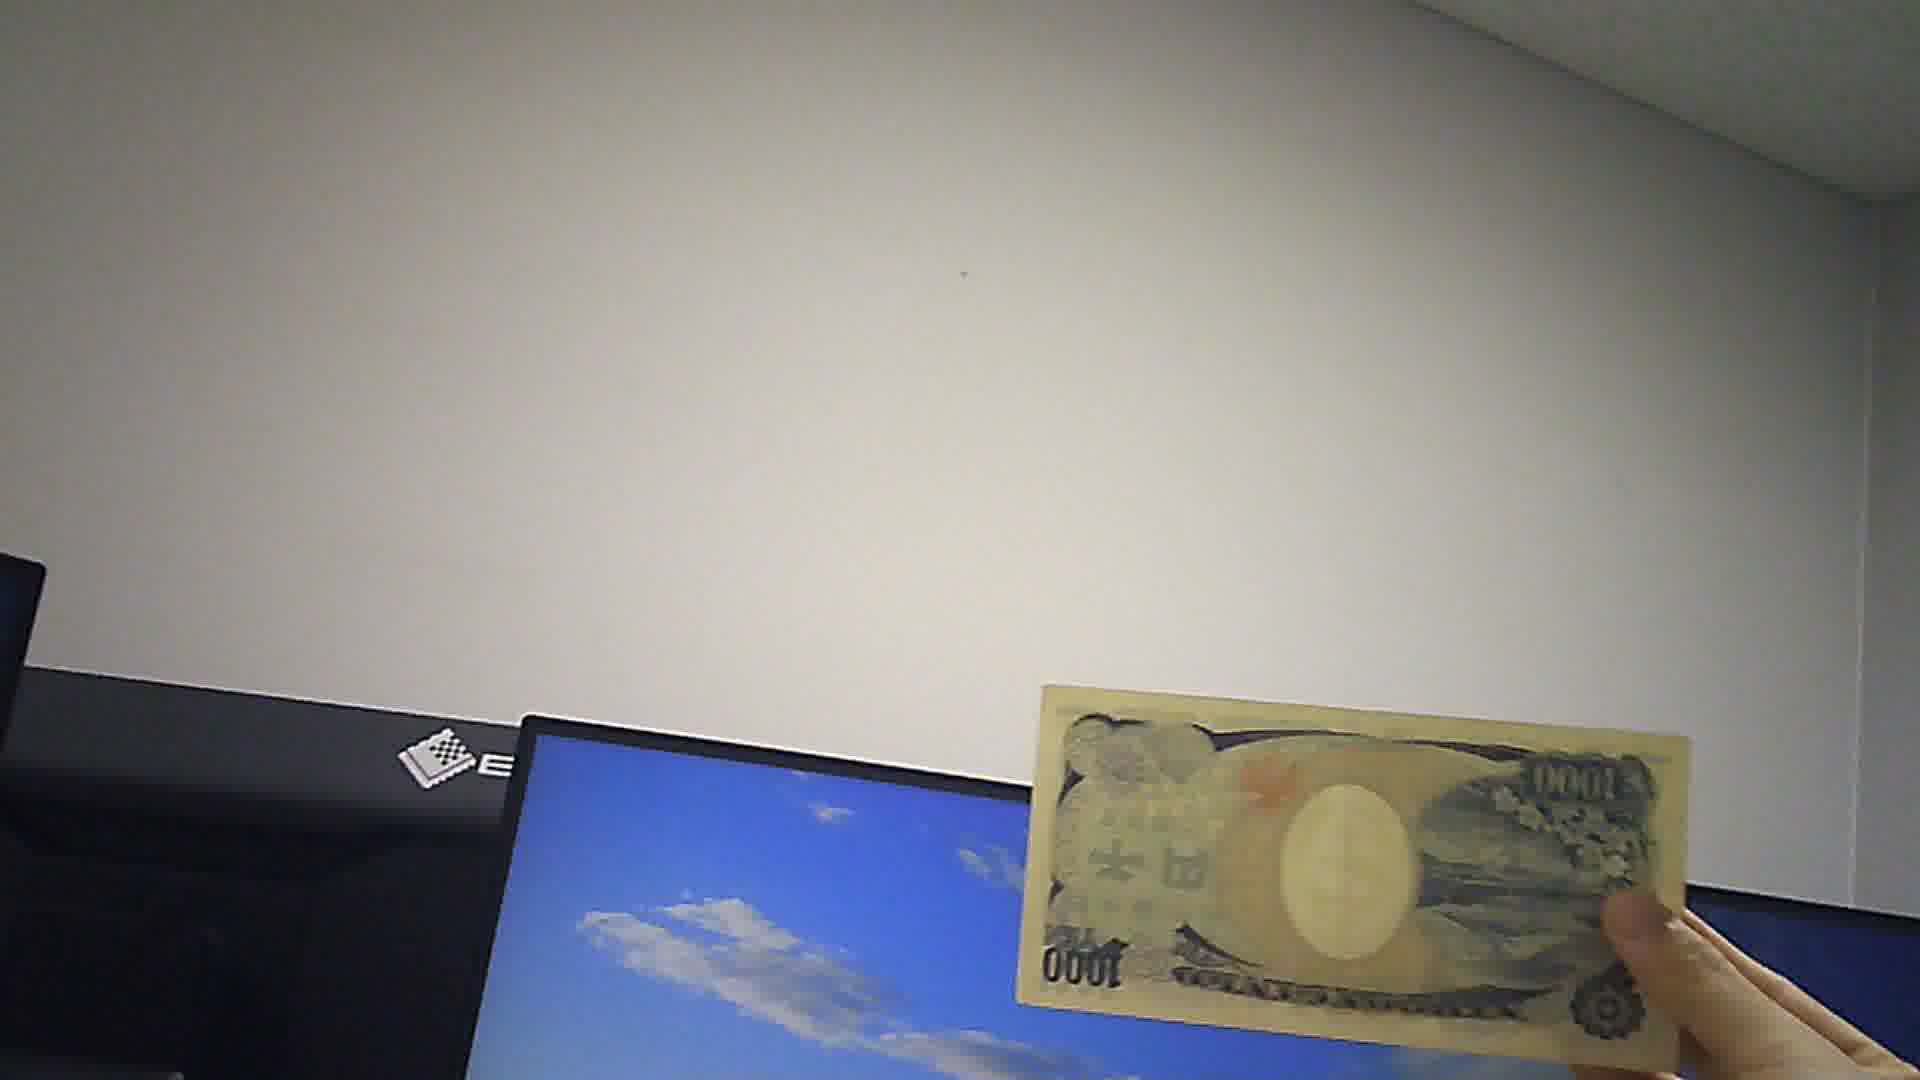1,000 Yen: (1015, 667, 1681, 1065)
